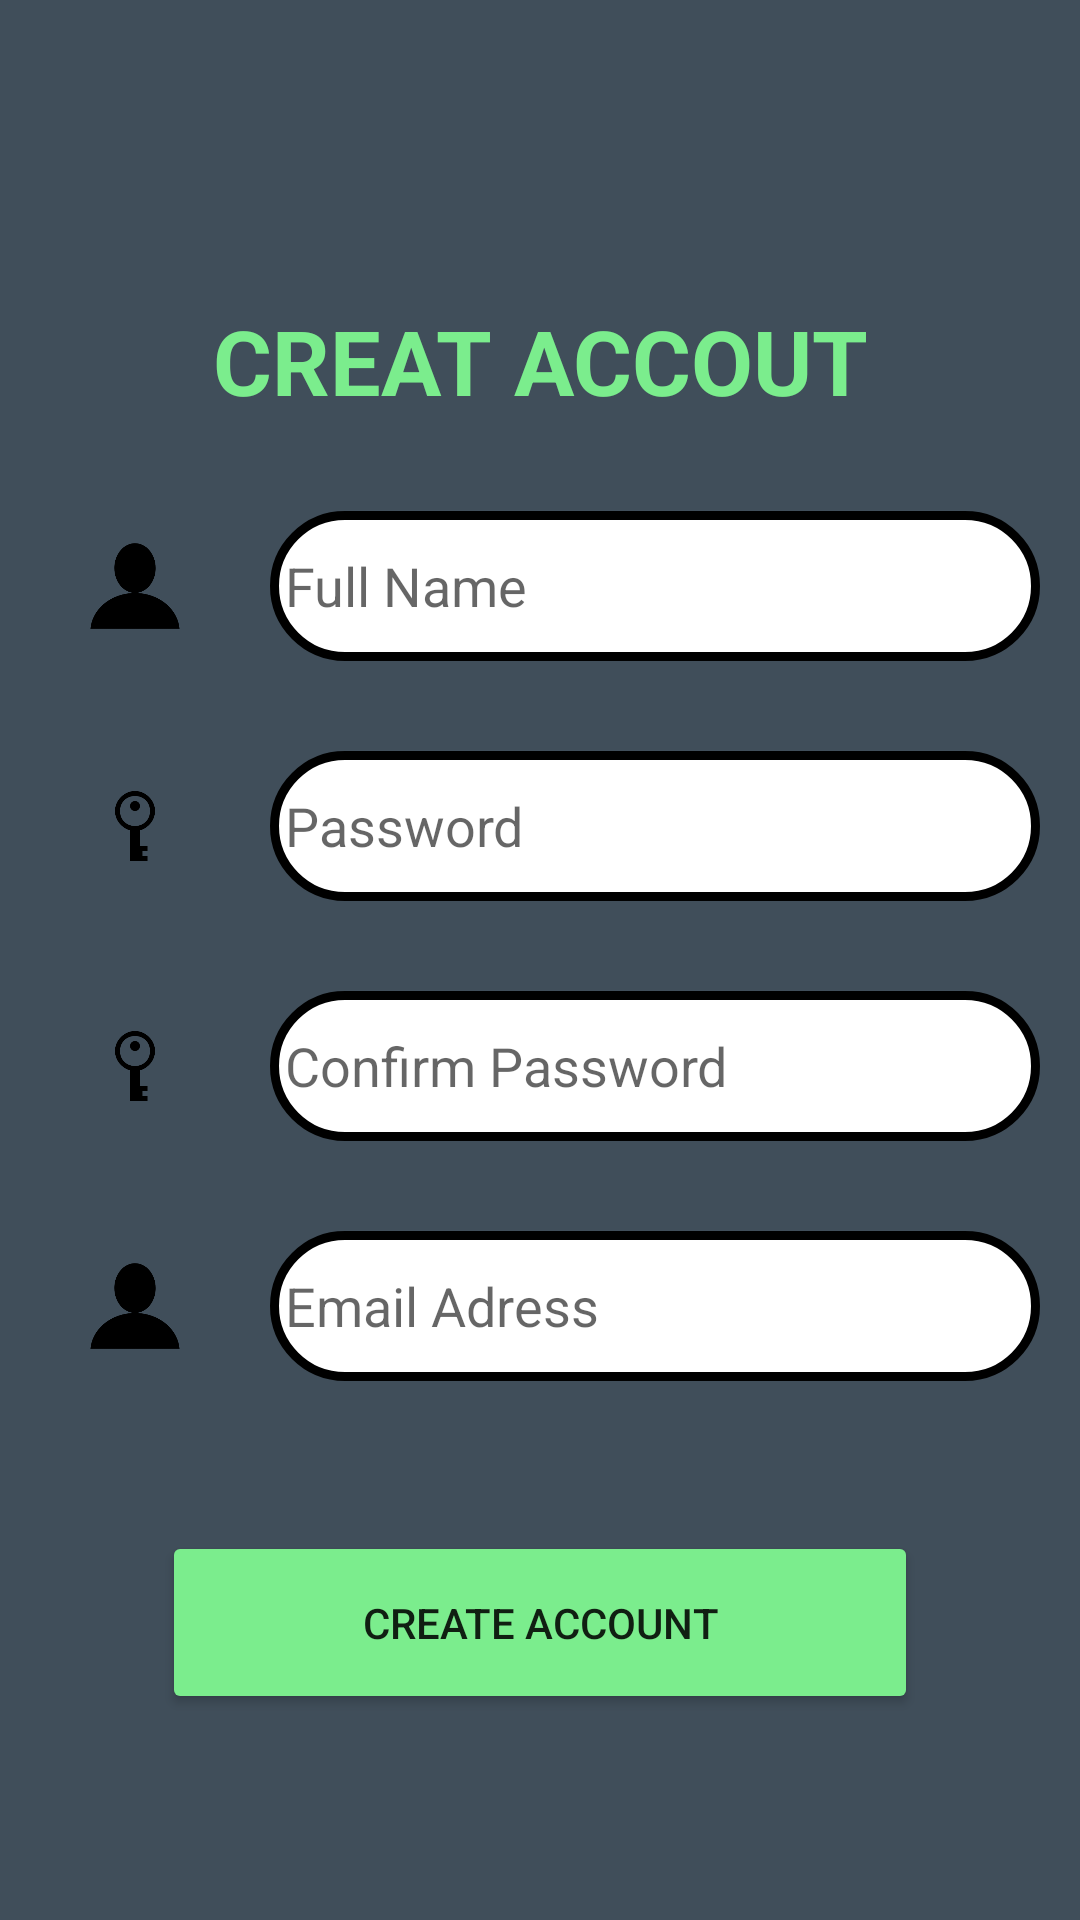

Point at icon controls on the screen. Image size 1080 x 1920, points as [x,y].
user: [135,586], [135,1306]
